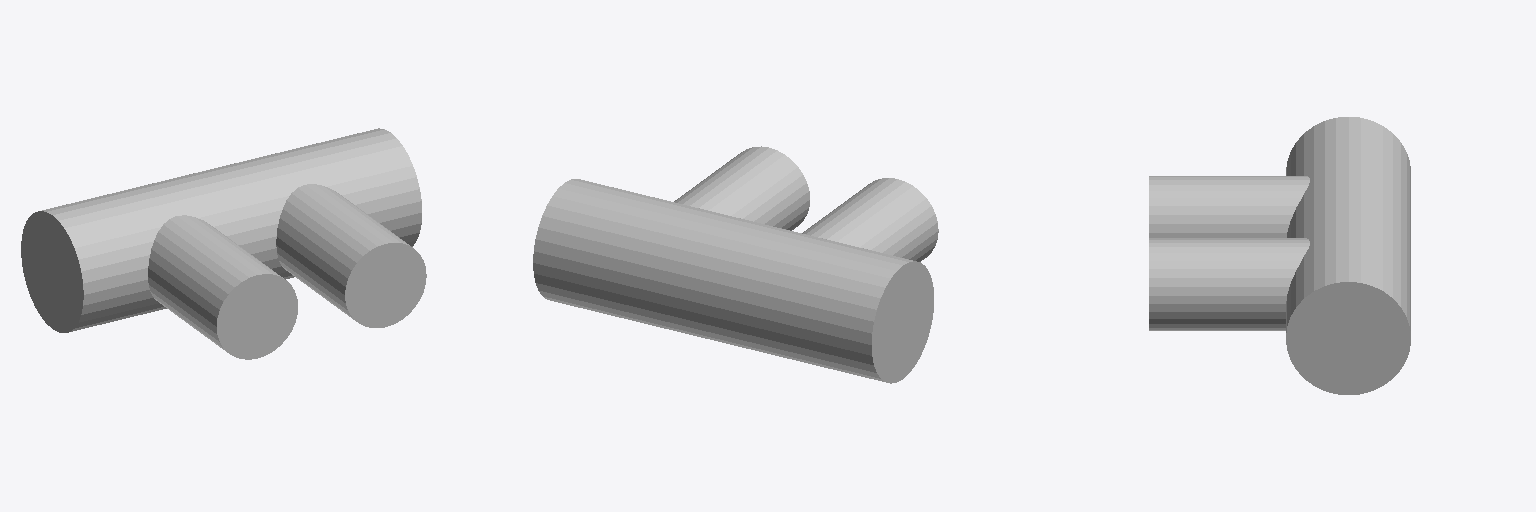
File: YK_Naval_Gun_Body.obj
The picture shows the model from 3 angles: view 1: azimuth 30°, elevation 25°; view 2: azimuth 150°, elevation 25°; view 3: azimuth 270°, elevation 25°; orthographic projection.
Visible parts, largest first — view 1: Cube.000_Cube.001; view 2: Cube.000_Cube.001; view 3: Cube.000_Cube.001.
Part boxes in pixels (left/top/right/bottom): Cube.000_Cube.001: left=21, top=128, right=426, bottom=359; Cube.000_Cube.001: left=533, top=146, right=938, bottom=383; Cube.000_Cube.001: left=1149, top=117, right=1410, bottom=394.
Size of the model in its own units: 2.64 by 0.8465 by 1.77.